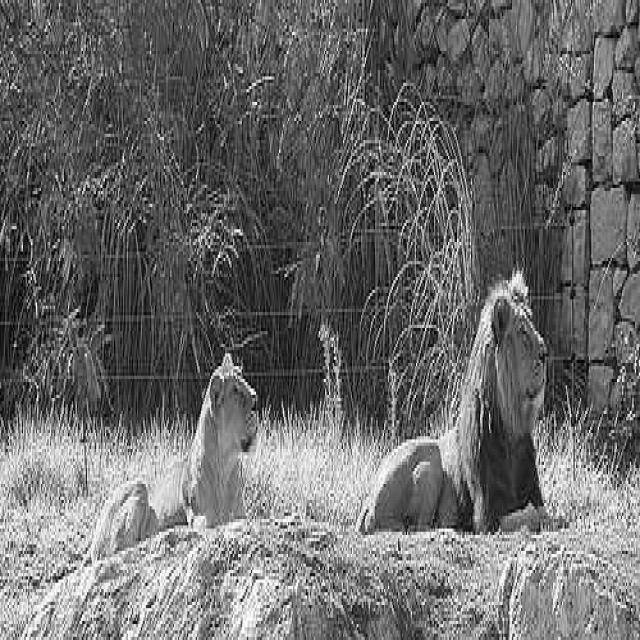Lion: (96, 328, 302, 602), (368, 266, 565, 524)
